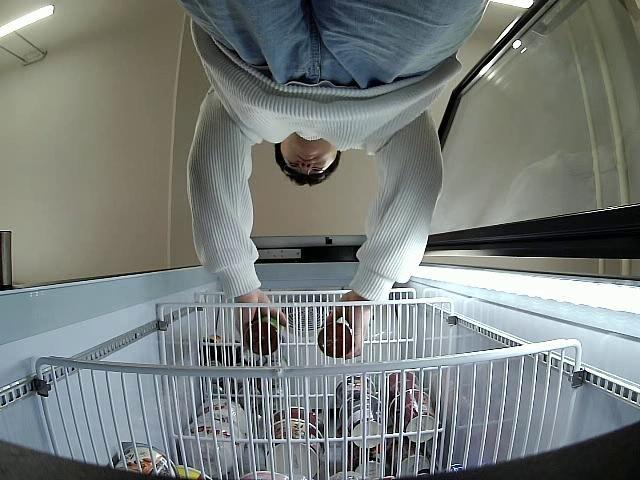19_17cha: (244, 317, 285, 356), (316, 315, 353, 358)
